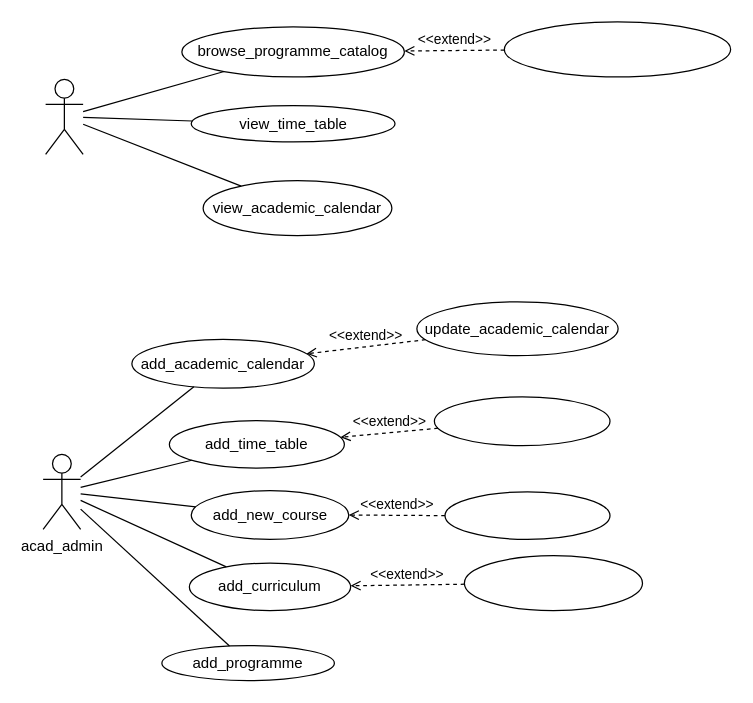
Some shapes in this 753 by 703 pixel diagram are drawn without their labels. Each missing label, with the centre of its shape:
"browse_curriculum_catalog" belongs at (617,49).
"Student" belongs at (63,116).
"update_course" belongs at (527,515).
"update_curriculum" belongs at (552,582).
"update_time_table" belongs at (521,421).
